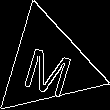M_N: (19, 34, 77, 96)
